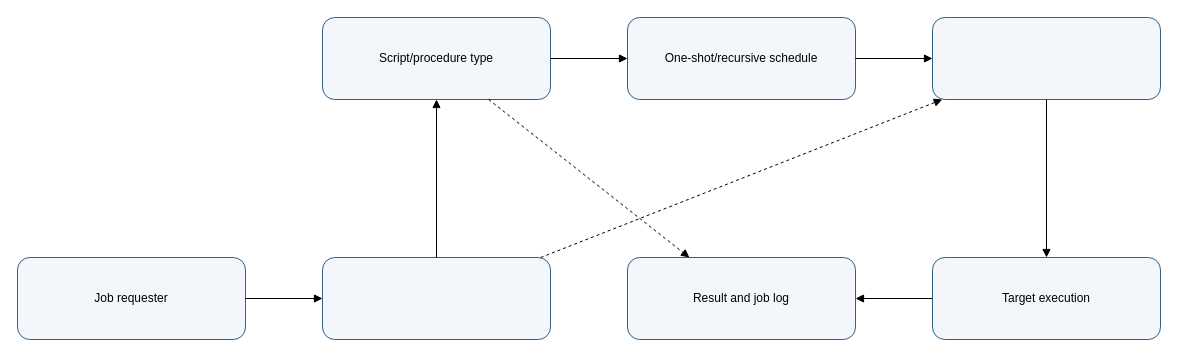
Image size: 1178x357. Some labels were removed from this diagram. Each missing label, with the centre of its shape:
"Approval gate" goes at point (1046, 58).
"Secret and associated secret" goes at point (436, 298).
